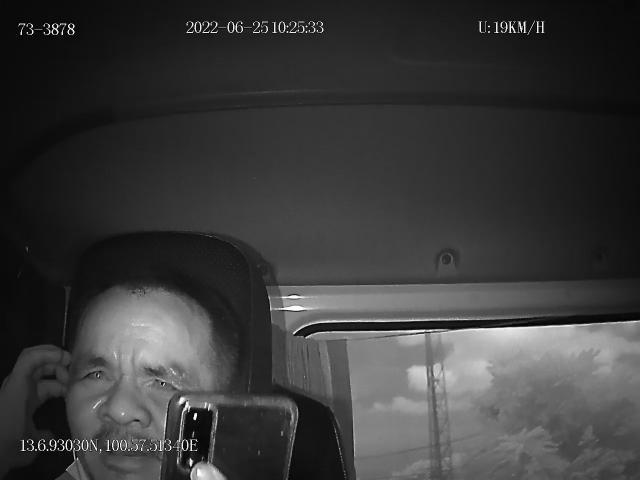PhoneUse: (158, 392, 300, 480)
SafeDriving: (139, 364, 181, 398), (76, 356, 116, 389)
